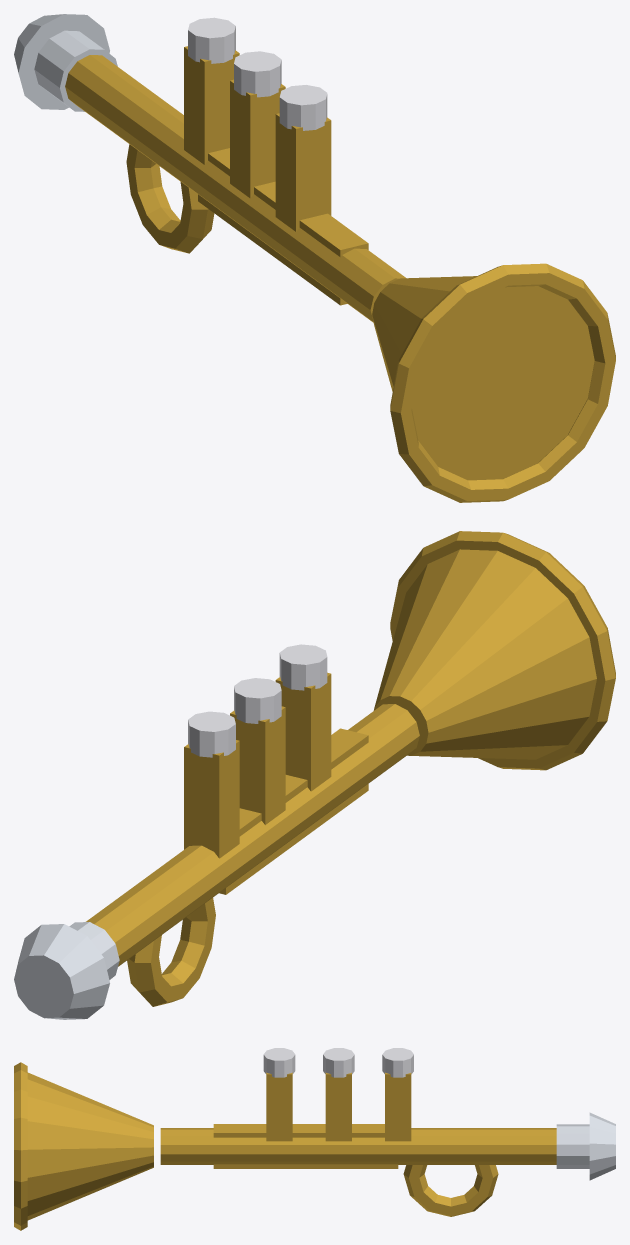
Rendered from trumpet.glb.
3 renders of one model, top to bottom at view 1: azimuth 30°, elevation 25°; view 2: azimuth 150°, elevation 25°; view 3: azimuth 270°, elevation 25°, orthographic. The views are drawn at different scales.
Visible parts, largest first — view 1: trumpet; view 2: trumpet; view 3: trumpet.
Boxes of the visible parts, x1,y1,x2,y2 form: trumpet: [14, 14, 615, 502]; trumpet: [14, 531, 615, 1019]; trumpet: [14, 1048, 615, 1230].
Bounding box in the file's own units: 0.128 × 0.141 × 0.4562.
